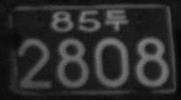0: (93, 36, 129, 87)
2: (17, 37, 52, 88)
5: (77, 10, 101, 32)
8: (135, 36, 170, 88), (55, 37, 89, 88), (51, 9, 73, 33)
두: (105, 8, 128, 32)
